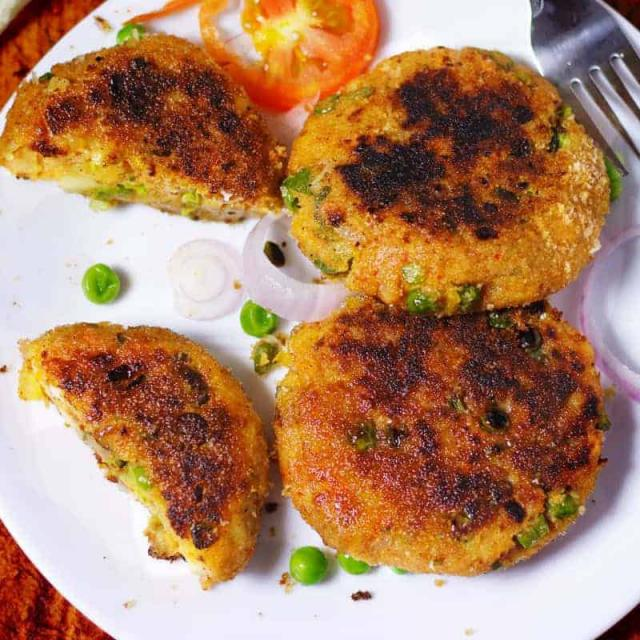Aloo Tikki: (279, 309, 606, 578), (286, 45, 606, 307), (16, 320, 272, 592), (4, 36, 284, 225)
